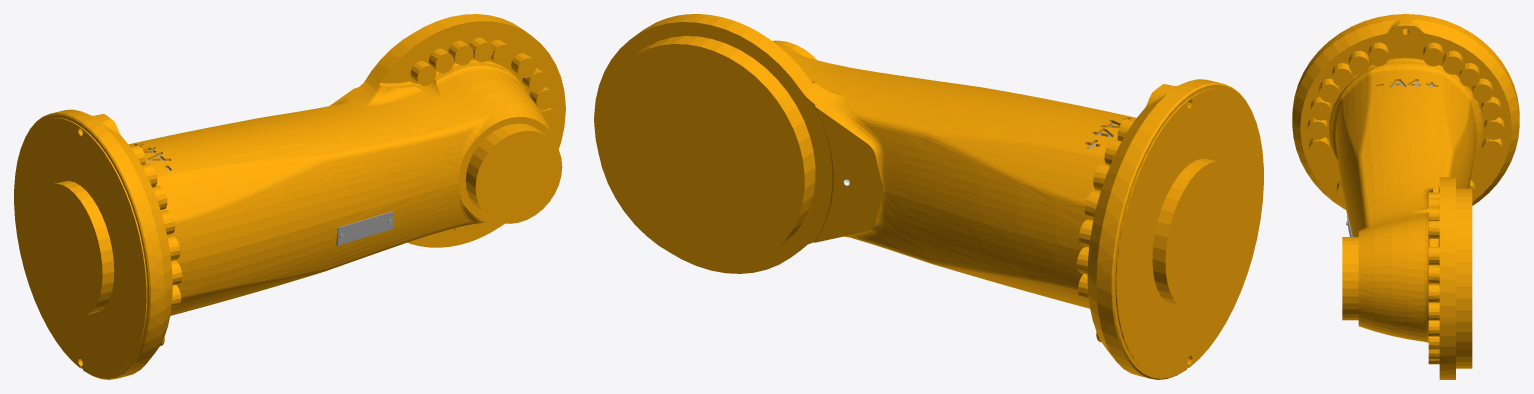
3 renders of one model, left to right at view 1: azimuth 30°, elevation 25°; view 2: azimuth 150°, elevation 25°; view 3: azimuth 270°, elevation 25°, orthographic. The views are drawn at different scales.
Parts seen in each view (by area): view 1: link4; view 2: link4; view 3: link4.
Part boxes in pixels (x1=…): link4: x1=14, y1=14, x2=565, y2=379; link4: x1=594, y1=14, x2=1263, y2=379; link4: x1=1292, y1=14, x2=1519, y2=379.
Bounding box in the file's own units: 0.4416 × 0.202 × 0.202.
